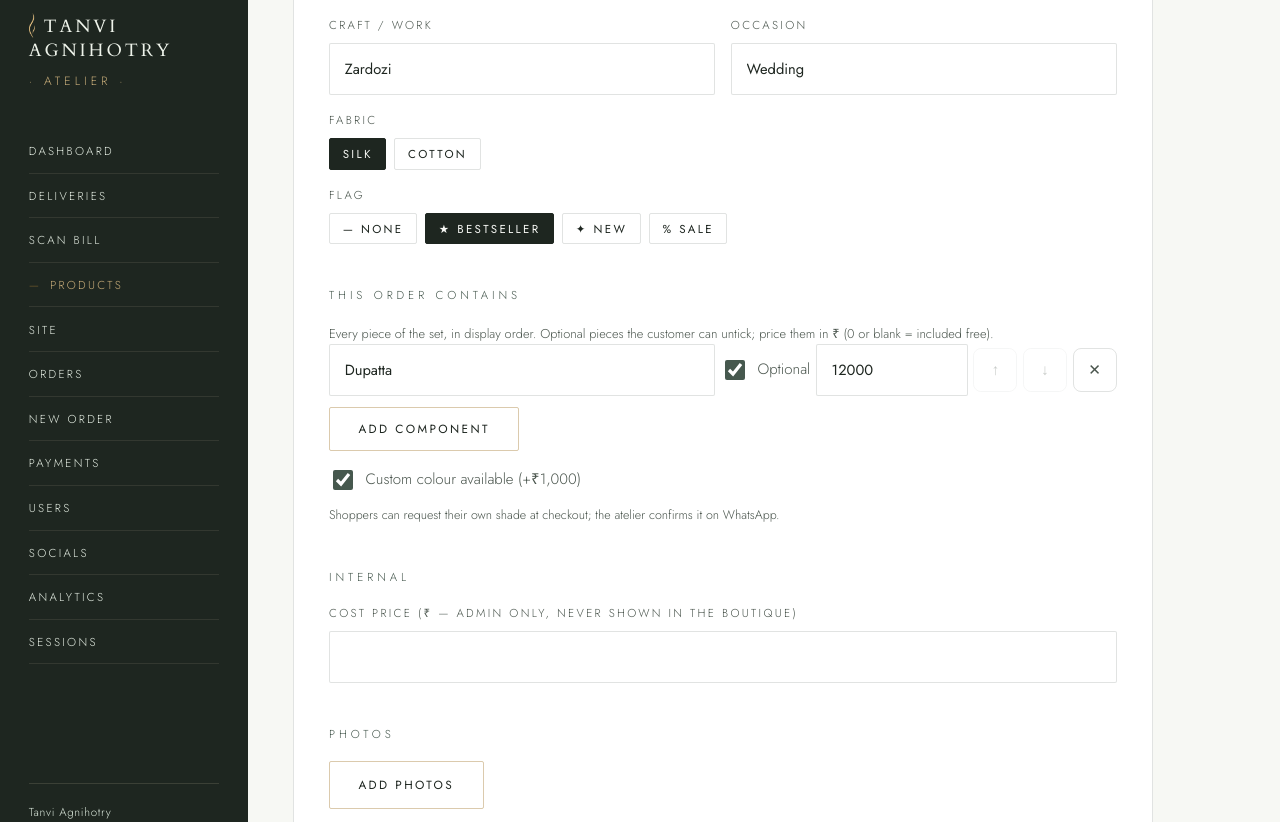
it: ProductEdit › loads saved components and PUTs an added optional row in paise
(page scrolled)
Expected: the field named "Component 1 name" holds "Dupatta", [329,344,715,396]
Expected: the number field named "Component 1 price (₹)" holds "12000", [816,344,968,396]
Click the button "Add component" at (424, 429), box [329,407,519,451]
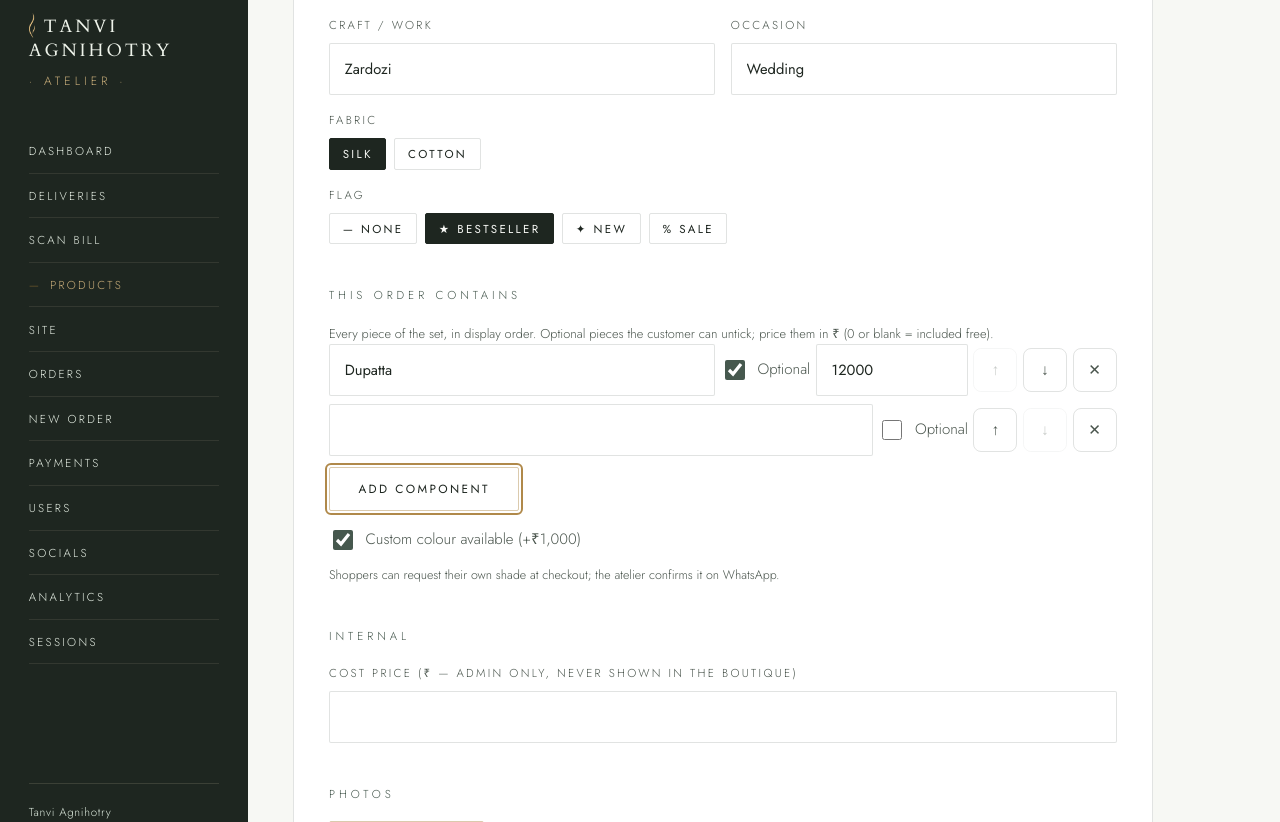
Type "Cape" into the field named "Component 2 name" at (601, 430), box [329,404,873,456]
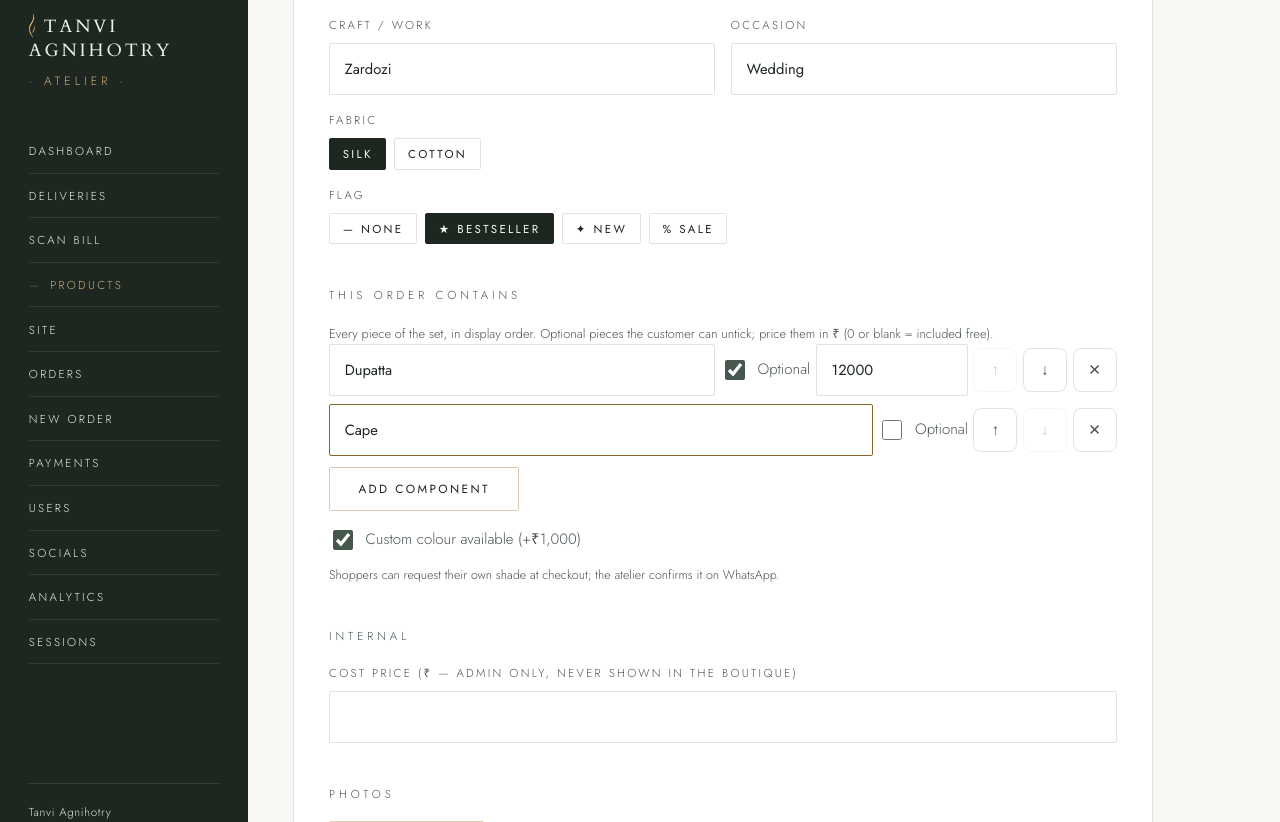
Click the 2nd checkbox labelled "Optional" at (892, 430), box [882,420,902,440]
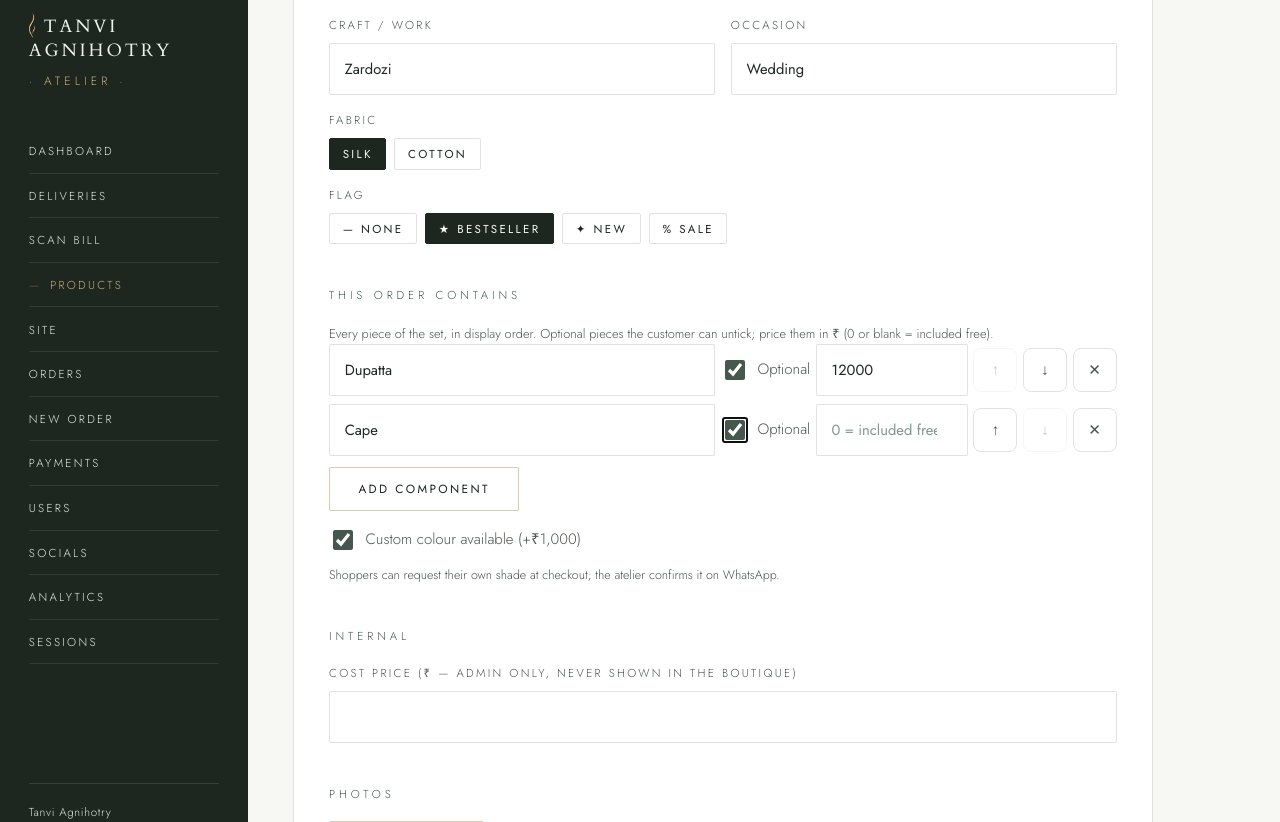
Type "15000" into the number field named "Component 2 price (₹)" at (892, 430), box [816,404,968,456]
(page scrolled)
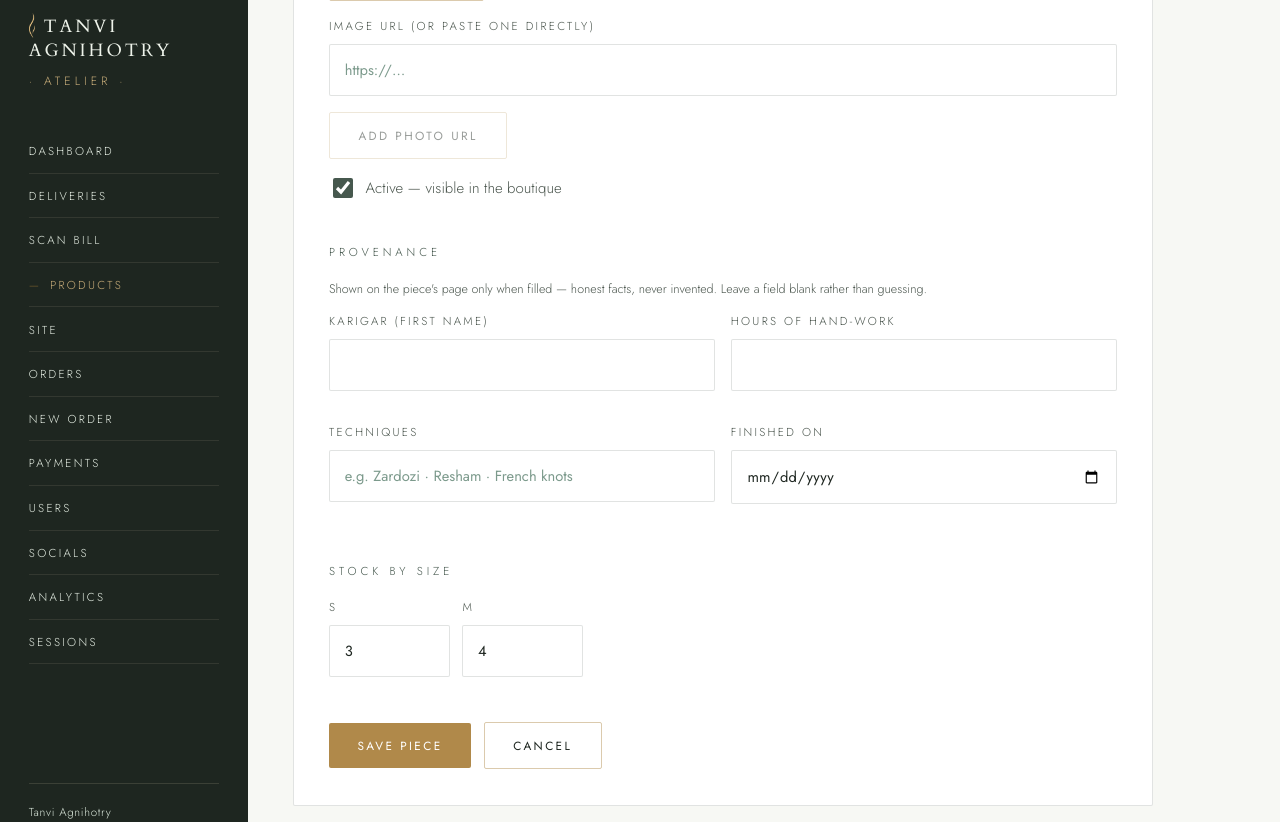
Click the button "Save Piece" at (400, 746), box [329,723,471,768]
(page scrolled)
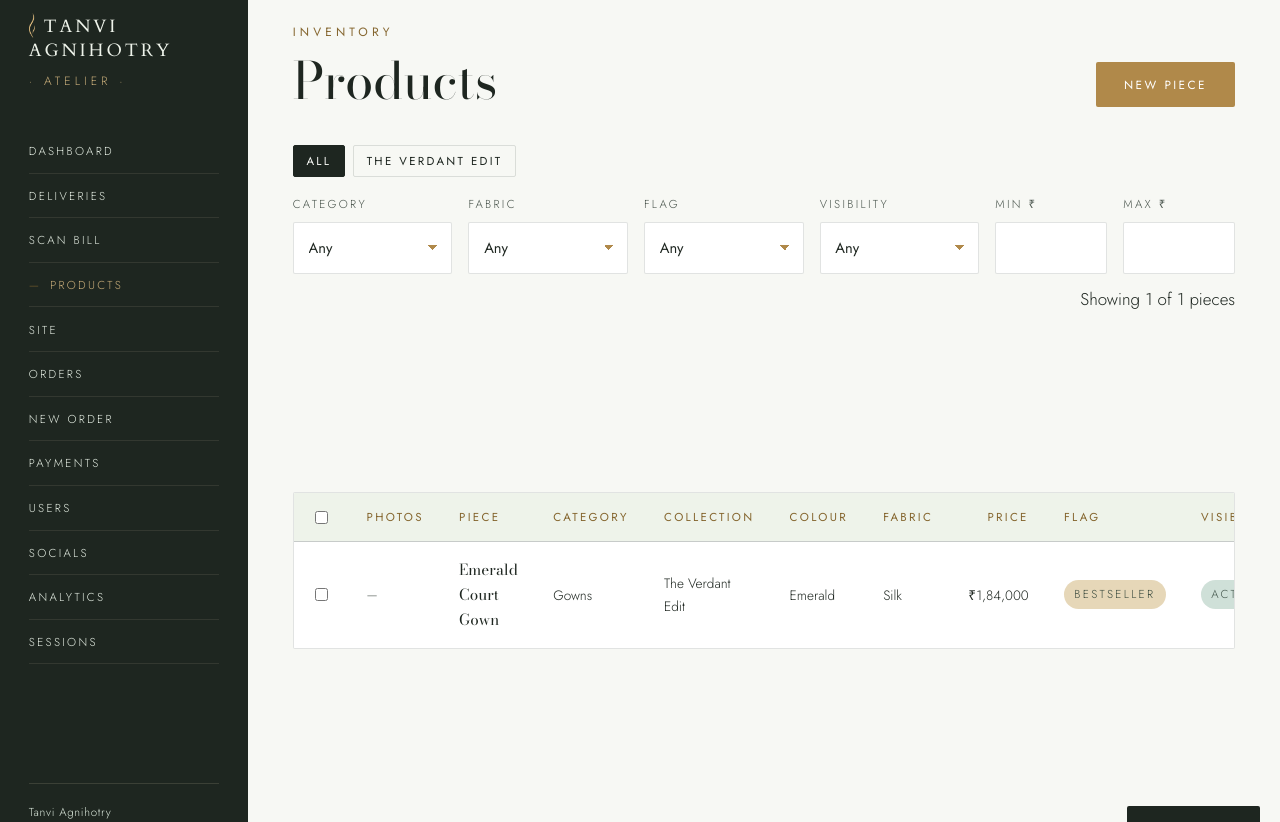
Now the heading "Products" is shown, box [293,54,497,107]
